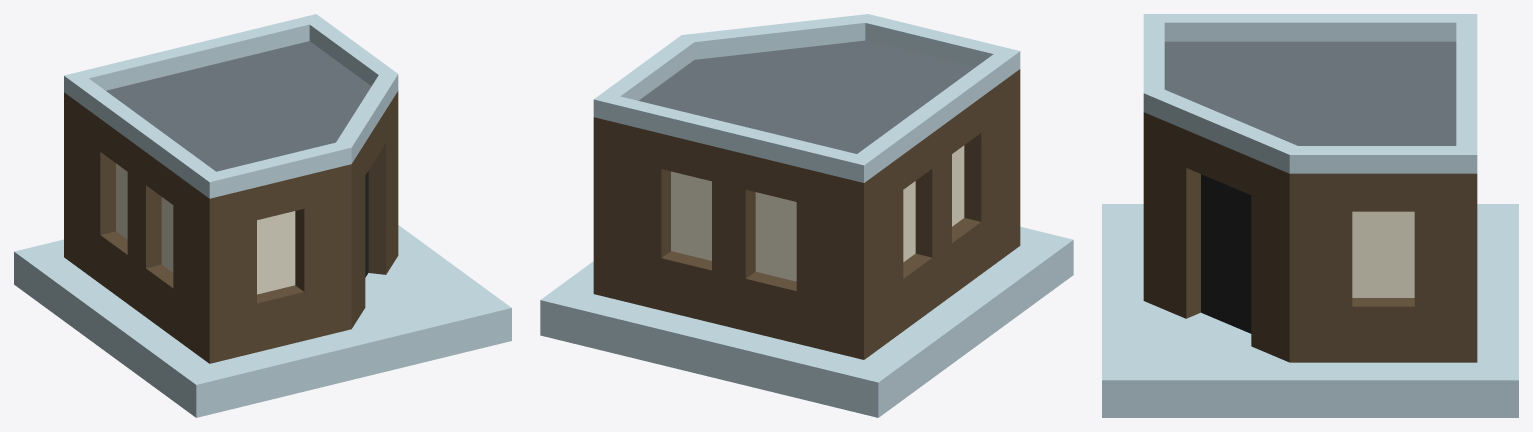
File: Building_10_Base (Brown).obj
3 views of the same model, side by side, from view 1: azimuth 30°, elevation 25°; view 2: azimuth 150°, elevation 25°; view 3: azimuth 270°, elevation 25° (orthographic). The views are drawn at different scales.
Parts seen in each view (by area): view 1: Building_10_Base_(Brown); view 2: Building_10_Base_(Brown); view 3: Building_10_Base_(Brown).
Part boxes in pixels (x1=…): Building_10_Base_(Brown): x1=14, y1=14, x2=511, y2=417; Building_10_Base_(Brown): x1=540, y1=14, x2=1073, y2=417; Building_10_Base_(Brown): x1=1102, y1=14, x2=1518, y2=417.
Bounding box in the file's own units: 2 × 1.3 × 2.
